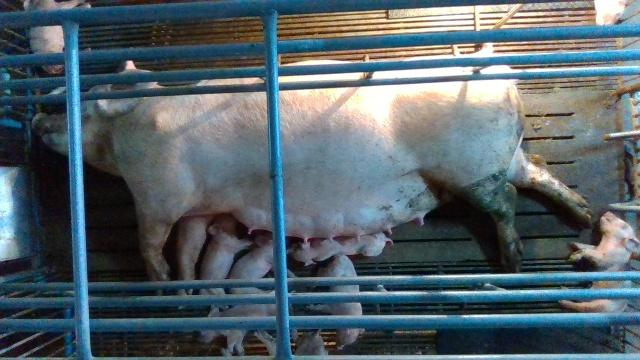piglet: (558, 208, 640, 312), (305, 252, 368, 349), (197, 305, 296, 358), (198, 216, 253, 311), (23, 1, 92, 76), (227, 234, 295, 295), (292, 232, 397, 266)
sow-sleep-lactate: (30, 43, 593, 311)
